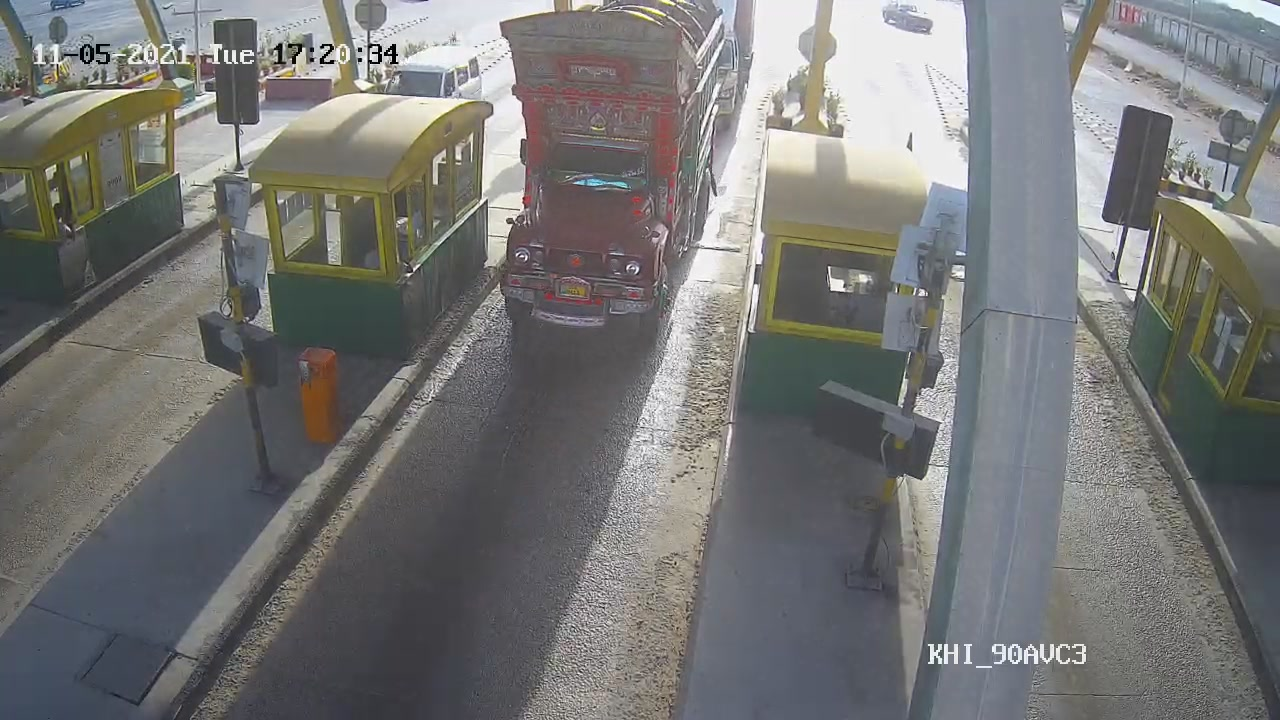F5: (502, 1, 722, 346)
